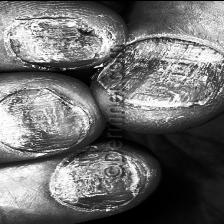Toxin: (96, 33, 224, 101), (9, 13, 104, 70)
